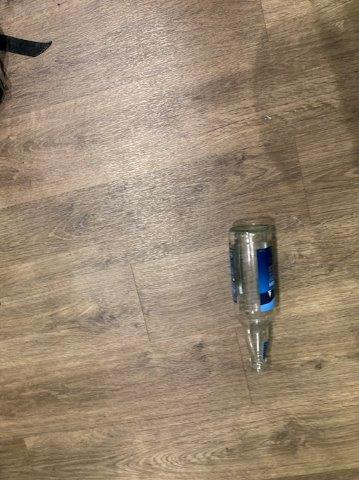botolkaca: (228, 224, 280, 373)
